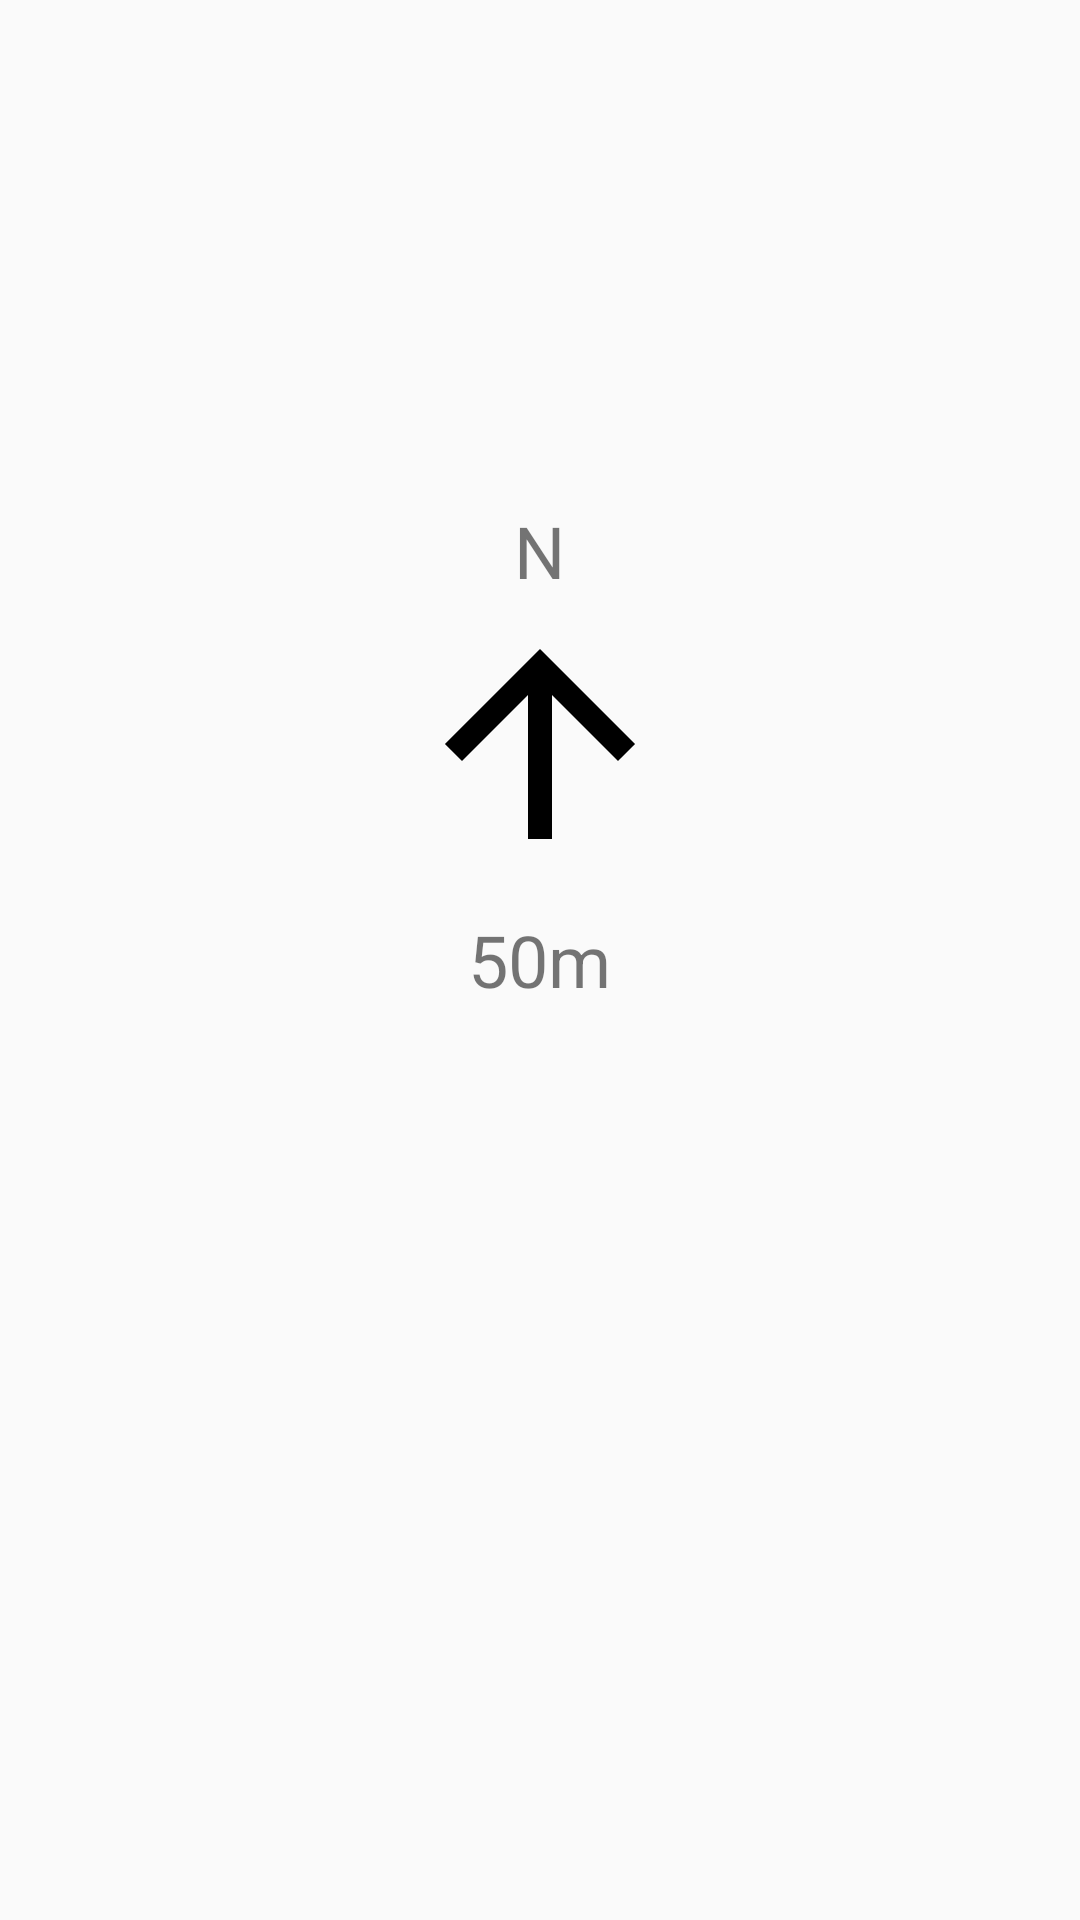

Icons on this 1080px×1920px Android screen, each with its box as BBox(x1, y1, x2, y2):
arrow up: BBox(445, 649, 635, 839)
